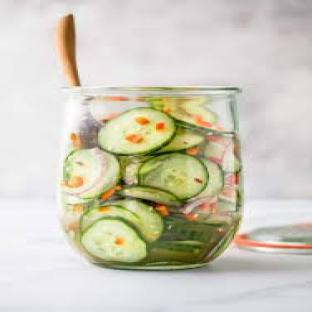Cucumber: (98, 108, 175, 154), (140, 153, 209, 200), (82, 218, 147, 263), (64, 148, 119, 199), (110, 200, 164, 242), (150, 98, 217, 130), (80, 153, 119, 197), (80, 205, 141, 231), (163, 217, 222, 243), (118, 187, 182, 207), (205, 137, 240, 172), (150, 240, 207, 261), (156, 129, 204, 153), (198, 159, 224, 197), (223, 146, 240, 172), (123, 162, 141, 185), (220, 186, 238, 204), (62, 194, 91, 204), (218, 201, 237, 213)
